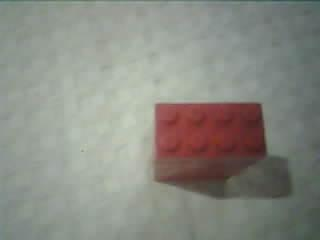lego: (149, 99, 270, 184)
